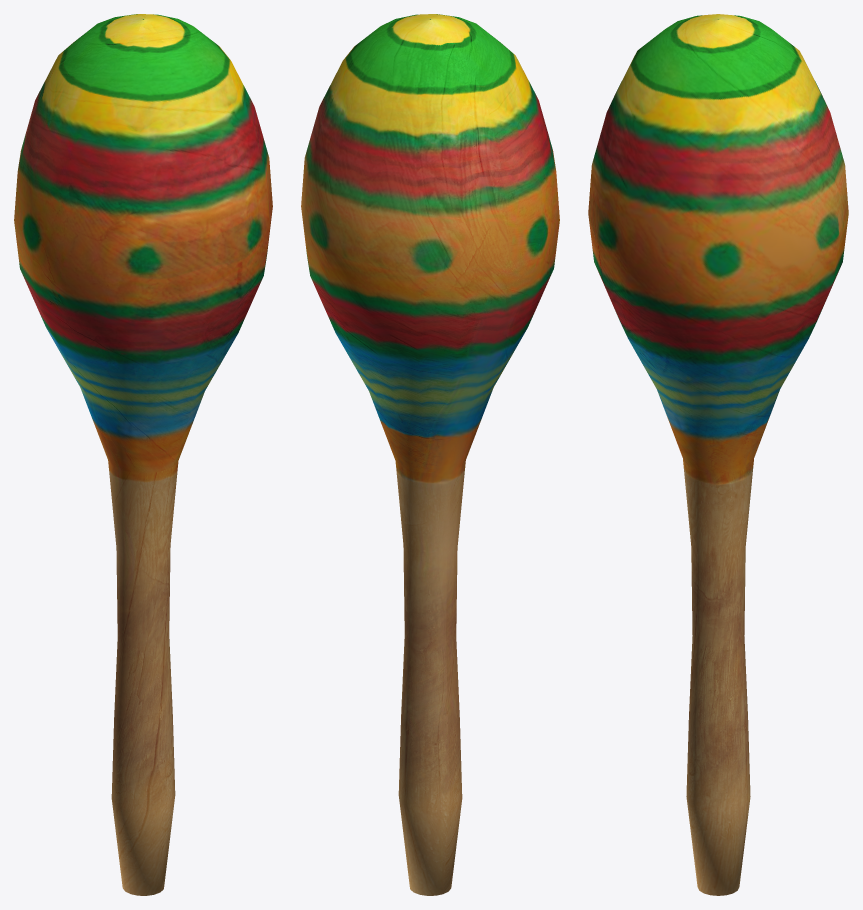
The model's file is Rassel.fbx.
3 renders of one model, left to right at view 1: azimuth 30°, elevation 25°; view 2: azimuth 150°, elevation 25°; view 3: azimuth 270°, elevation 25°, orthographic.
Parts seen in each view (by area): view 1: Loft; view 2: Loft; view 3: Loft.
Part boxes in pixels (box(x1,y1,x2,y2)): Loft: box(14, 14, 272, 895); Loft: box(301, 14, 559, 895); Loft: box(588, 14, 848, 895).
Size of the model in its own units: 35.58 by 132 by 35.58.
Materials: 1 (1 with a texture image).
